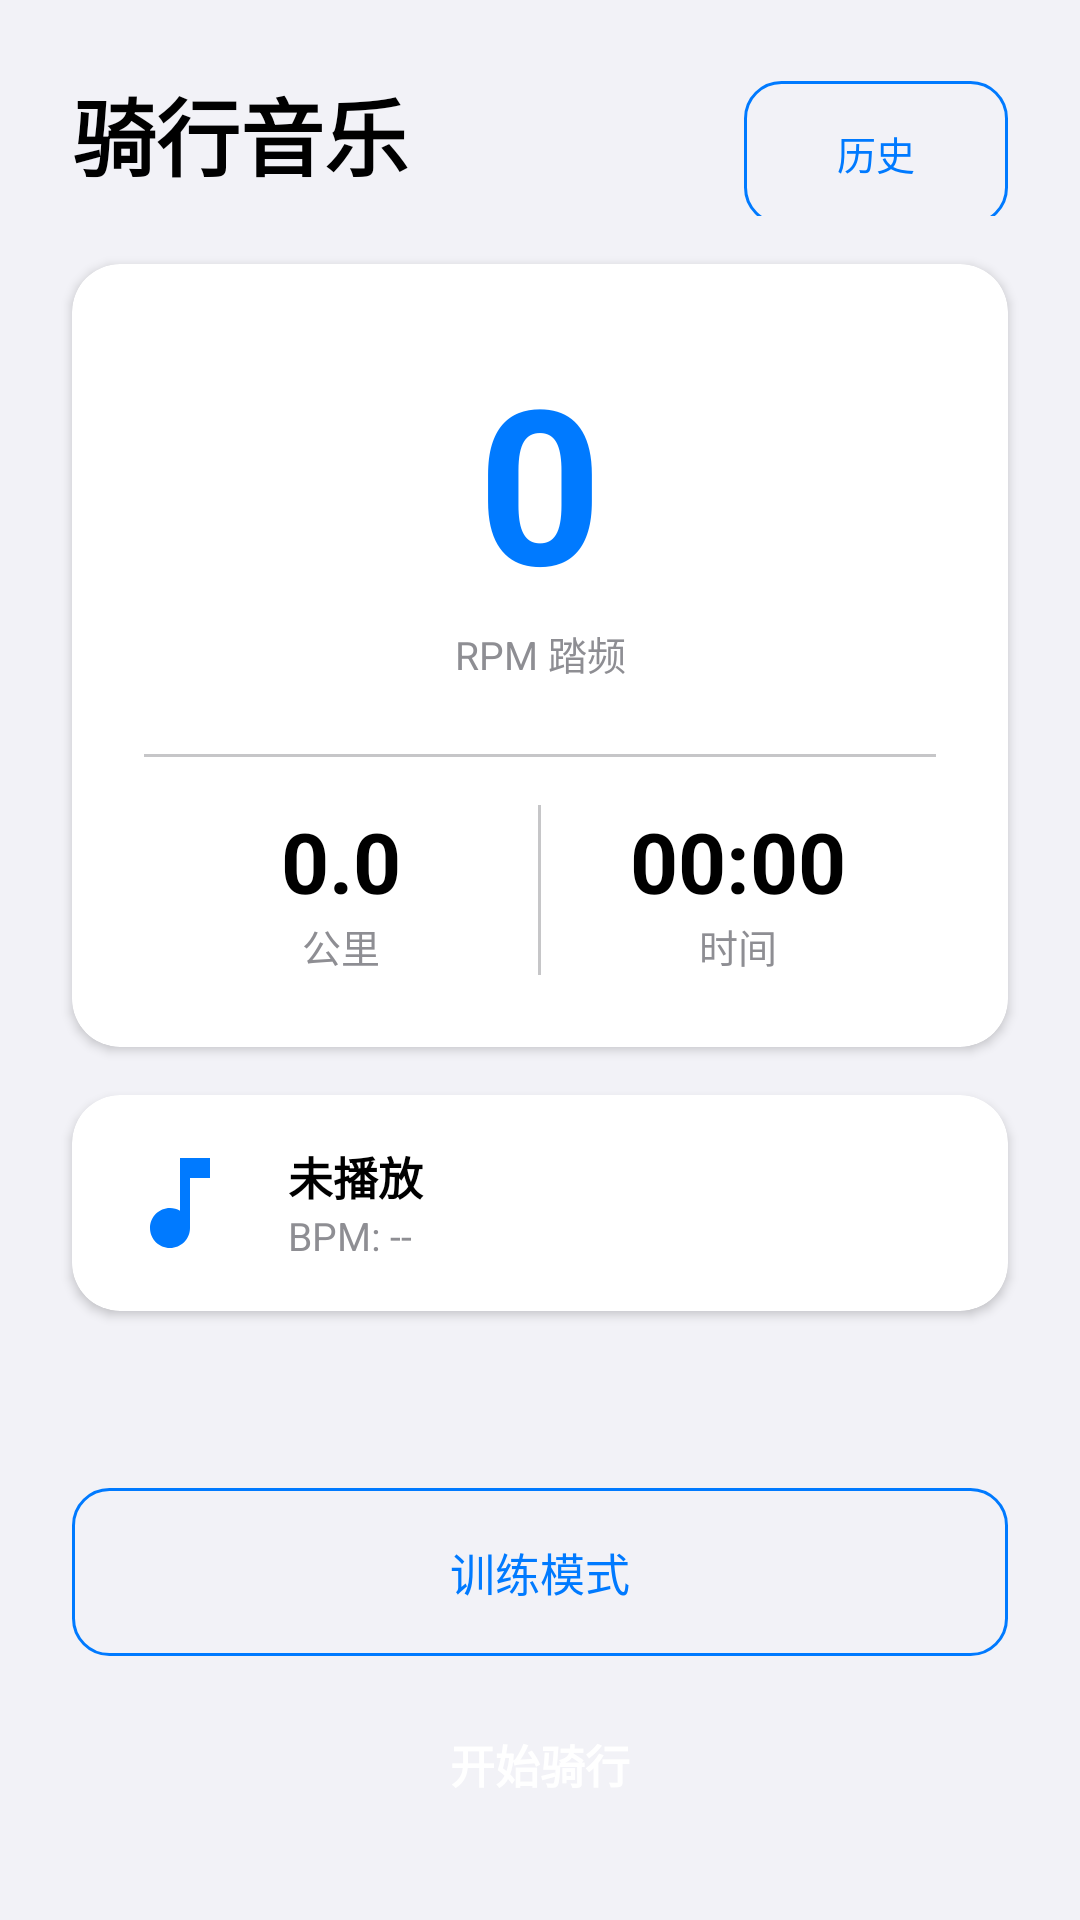

Icon bounding boxes for this 1080px x 1920px phone screenshot, format (x1, y1, x2, y2):
music note: (150, 1158, 210, 1248)
